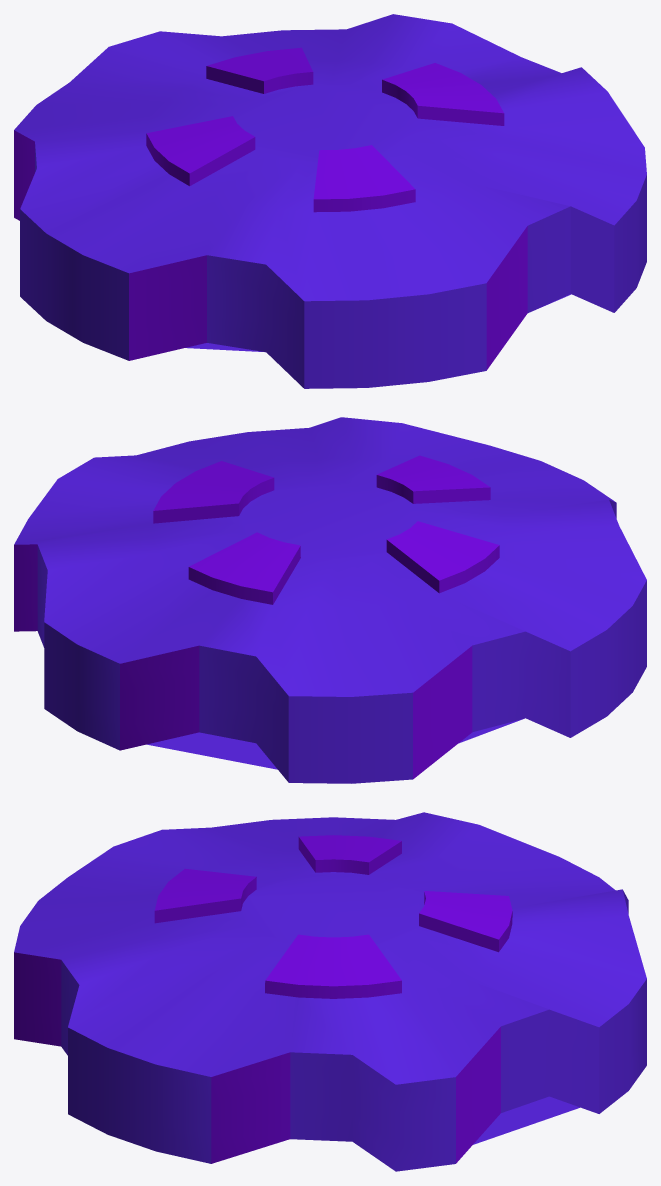
The model's file is ring3.glb.
3 renders of one model, top to bottom at view 1: azimuth 30°, elevation 25°; view 2: azimuth 150°, elevation 25°; view 3: azimuth 270°, elevation 25°, orthographic.
Parts seen in each view (by area): view 1: ring; view 2: ring; view 3: ring.
Part boxes in pixels (left/top/right/bottom): ring: left=14, top=14, right=646, bottom=388; ring: left=14, top=417, right=646, bottom=783; ring: left=14, top=812, right=646, bottom=1171.
Bounding box in the file's own units: 0.3962 × 0.0972 × 0.3962.
